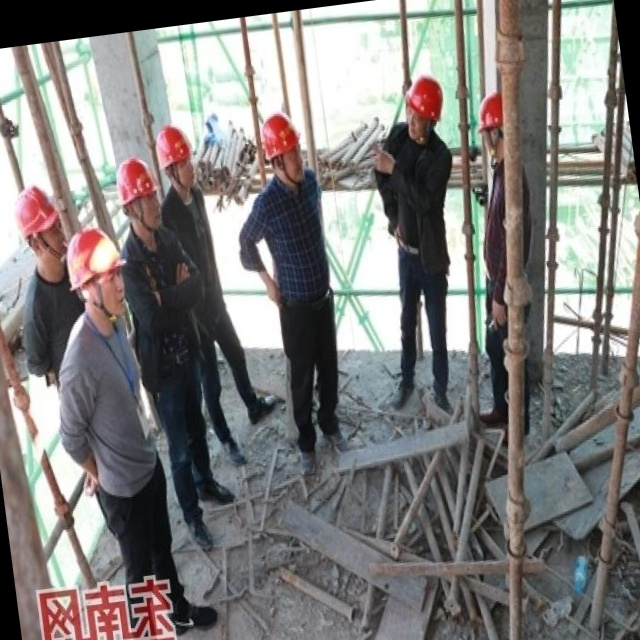Con_Casco: (67, 229, 128, 326)
Sin_Chaleco: (253, 180, 338, 308)
